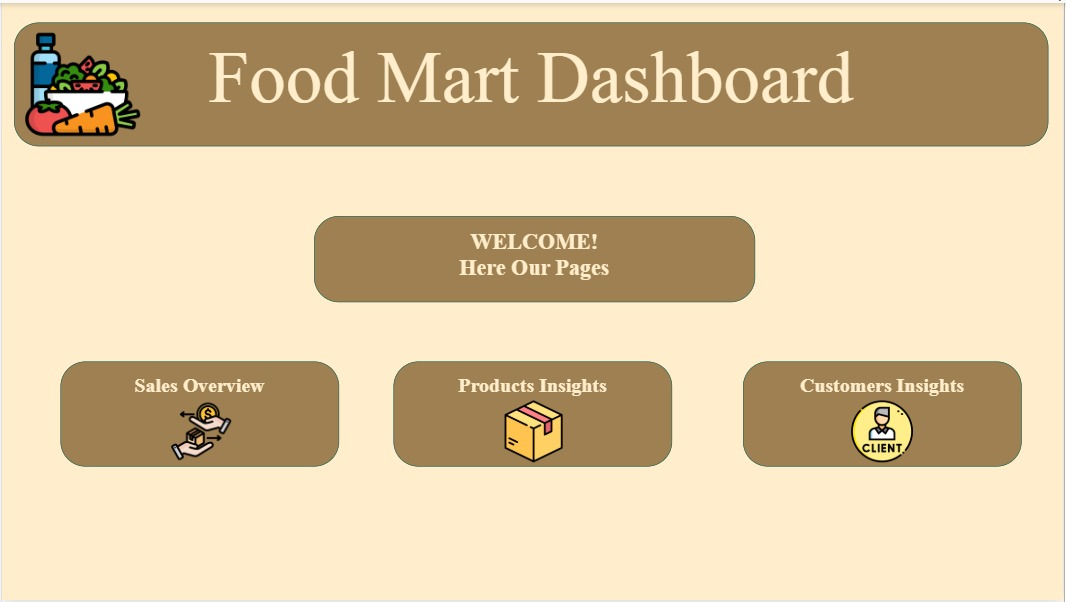

Layout of this report page (visuals, bound fields, positions):
{"tool":"powerbi","page":{"name":"Home","canvas":[1280,720],"ordinal":0},"visuals":[{"type":"textbox","box":[15.1,22.6,1247.2,149.1],"z":0},{"type":"image","box":[0,22.6,194.3,149.1],"z":1000},{"type":"textbox","box":[375.5,256.6,532.1,103.8],"z":2000},{"type":"textbox","box":[471.7,432.1,335.8,126.4],"z":3000},{"type":"textbox","box":[894.3,432.1,335.8,126.4],"z":4000},{"type":"textbox","box":[69.8,432.1,335.8,126.4],"z":5000},{"type":"image","box":[117,473.6,245.3,84.9],"z":6000},{"type":"image","box":[564.2,473.6,152.8,84.9],"z":7000},{"type":"image","box":[1003.8,473.6,115.1,84.9],"z":8000}]}

Visuals, with their boxes in screenshot pixels (x1, y1, x2, y2), scaled from the page's 1280x720 canvas onto the 1066x602 screenshot:
textbox: box(13, 19, 1051, 144)
image: box(0, 19, 162, 144)
textbox: box(313, 215, 756, 301)
textbox: box(393, 361, 672, 467)
textbox: box(745, 361, 1024, 467)
textbox: box(58, 361, 338, 467)
image: box(97, 396, 302, 467)
image: box(470, 396, 597, 467)
image: box(836, 396, 932, 467)
